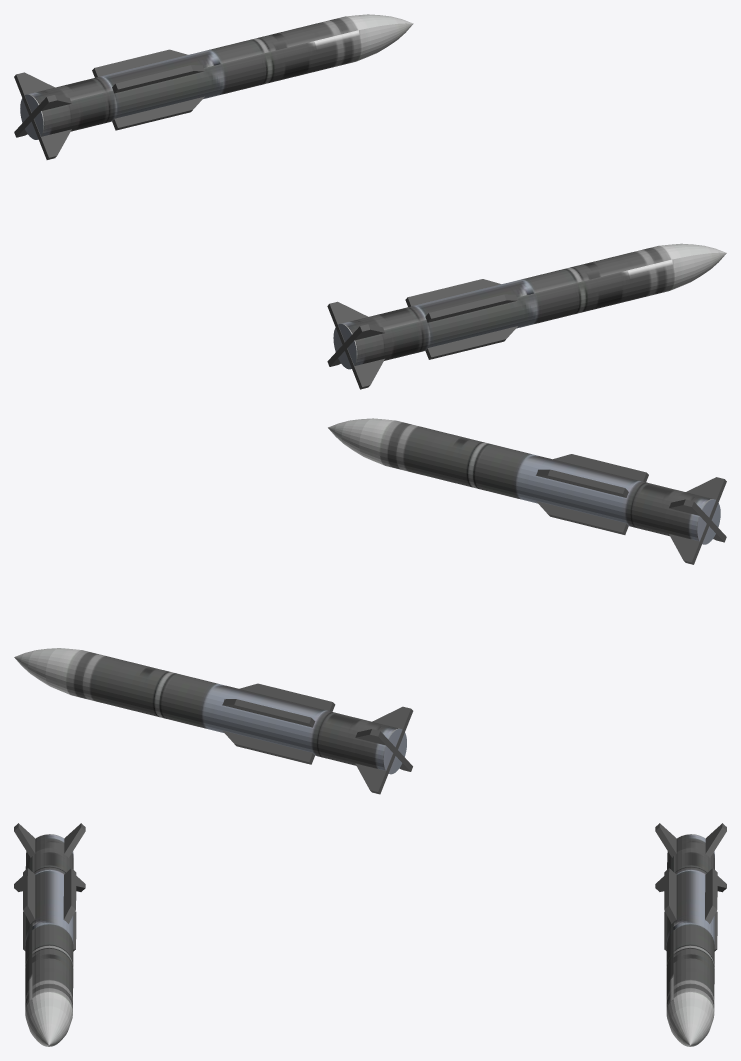
3 views of the same model, one above another, from view 1: azimuth 30°, elevation 25°; view 2: azimuth 150°, elevation 25°; view 3: azimuth 270°, elevation 25° (orthographic). The views are drawn at different scales.
Parts seen in each view (by area): view 1: 円柱.008, 円柱.013; view 2: 円柱.008, 円柱.013; view 3: 円柱.008, 円柱.013.
Part boxes in pixels (x1,y1,x2,y2): 円柱.008: [14, 14, 413, 159]; 円柱.013: [327, 243, 726, 389]; 円柱.008: [14, 648, 413, 794]; 円柱.013: [328, 418, 726, 564]; 円柱.008: [655, 823, 726, 1046]; 円柱.013: [14, 823, 85, 1046].
Size of the model in its own units: 5.01 by 0.7959 by 7.92.
3 materials, 1 textured.
